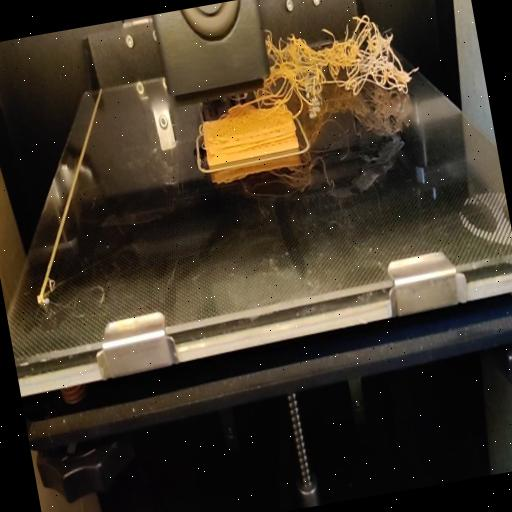spaghetti: (260, 0, 422, 122), (232, 86, 277, 128)
